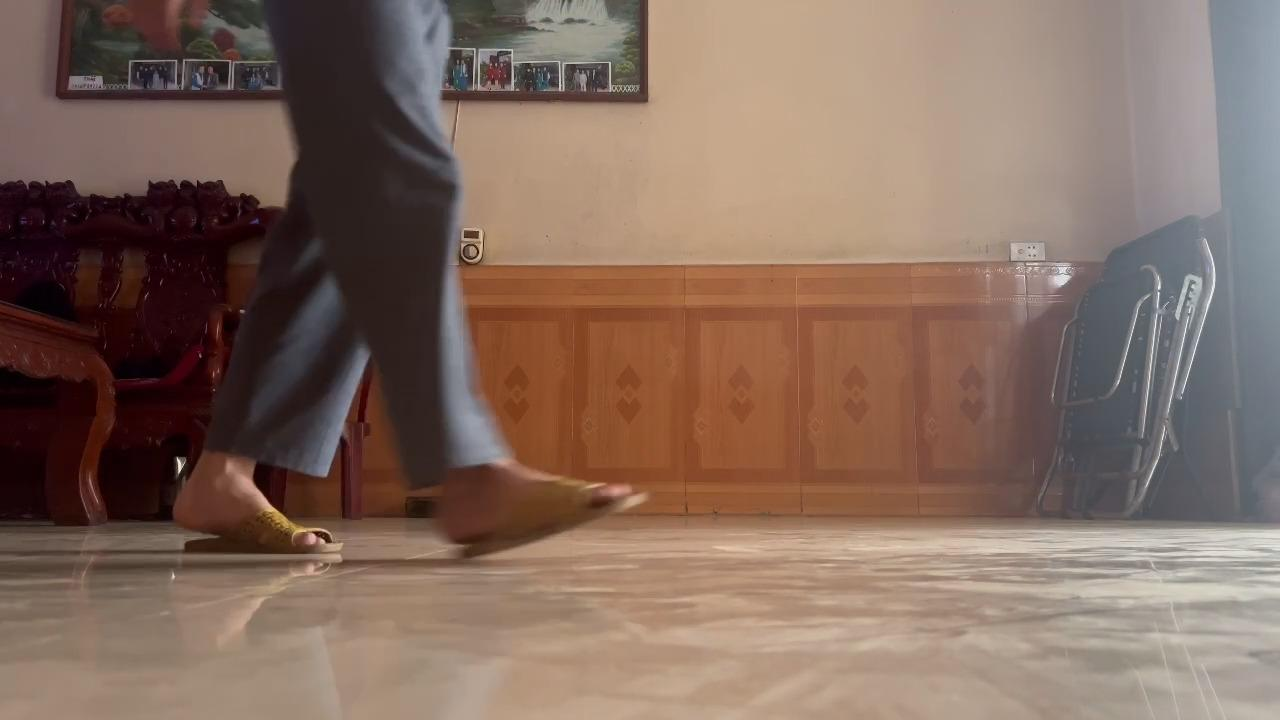no-boot: (426, 465, 654, 572), (166, 464, 361, 565)
